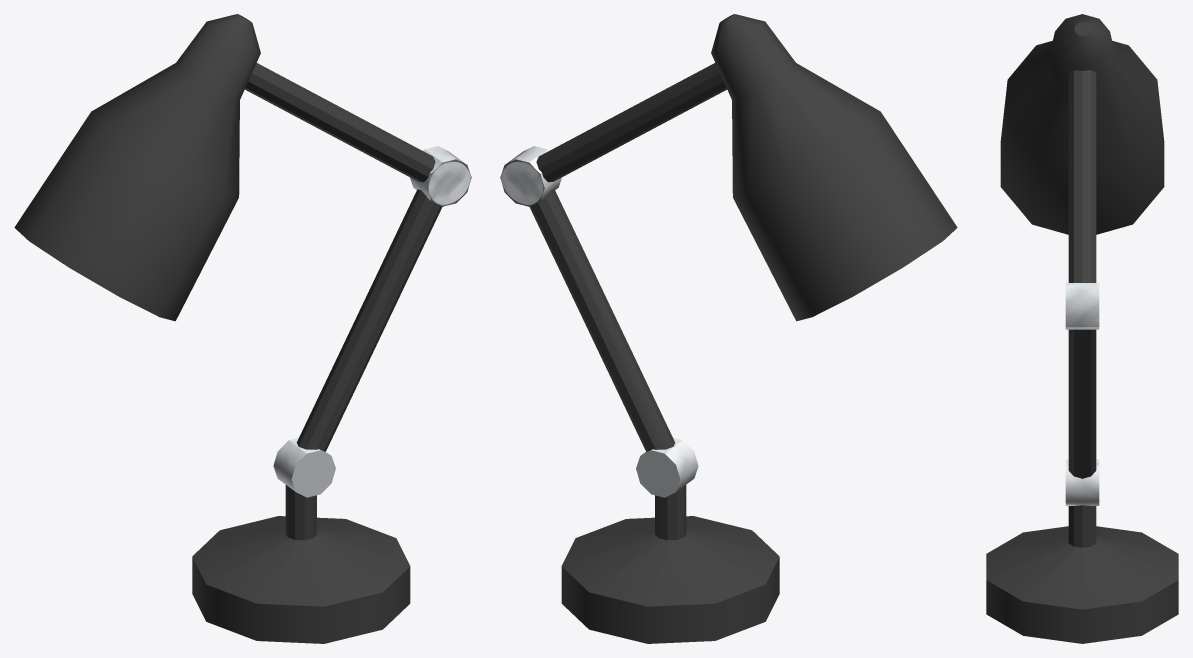
File: Lamp.fbx
3 renders of one model, left to right at view 1: azimuth 30°, elevation 25°; view 2: azimuth 150°, elevation 25°; view 3: azimuth 270°, elevation 25°, orthographic. The views are drawn at different scales.
Visible parts, largest first — view 1: polySurface8, polySurface4, polySurface7, polySurface6, polySurface5; view 2: polySurface8, polySurface4, polySurface7, polySurface6, polySurface5; view 3: polySurface4, polySurface8, polySurface7, polySurface5, polySurface6.
Part boxes in pixels (<box>): polySurface8: <box>14,14,260,321</box>; polySurface4: <box>192,189,442,643</box>; polySurface7: <box>245,63,435,182</box>; polySurface6: <box>273,438,335,497</box>; polySurface5: <box>410,146,471,206</box>; polySurface8: <box>711,14,957,321</box>; polySurface4: <box>529,189,779,643</box>; polySurface7: <box>536,63,726,182</box>; polySurface6: <box>636,438,698,497</box>; polySurface5: <box>500,146,561,206</box>; polySurface4: <box>986,329,1178,643</box>; polySurface8: <box>1000,14,1164,234</box>; polySurface7: <box>1068,70,1096,282</box>; polySurface5: <box>1065,283,1099,329</box>; polySurface6: <box>1065,459,1099,505</box>.
Size of the model in its own units: 2.7 by 3.56 by 1.13.
